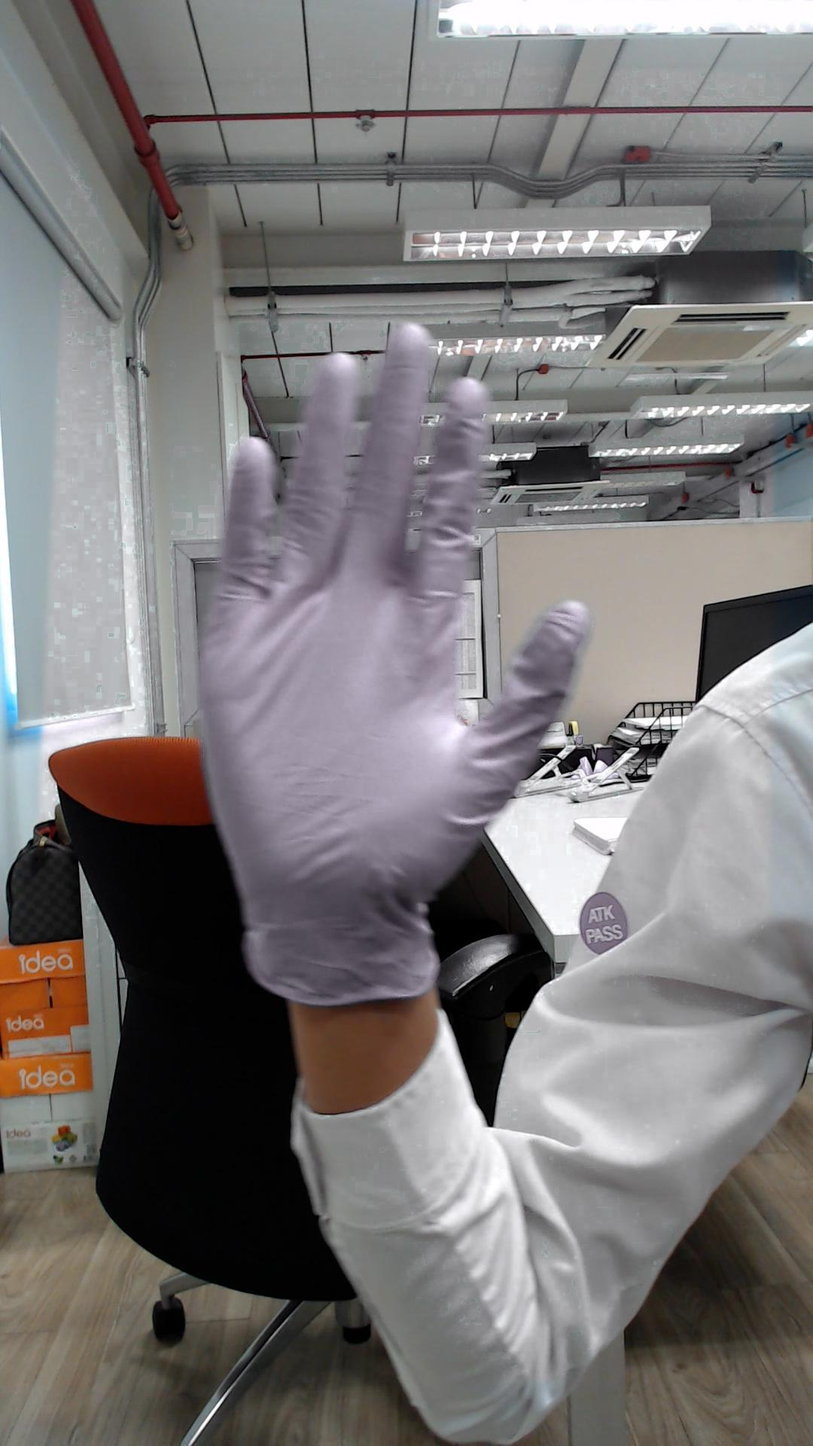gloves: (129, 271, 625, 923)
